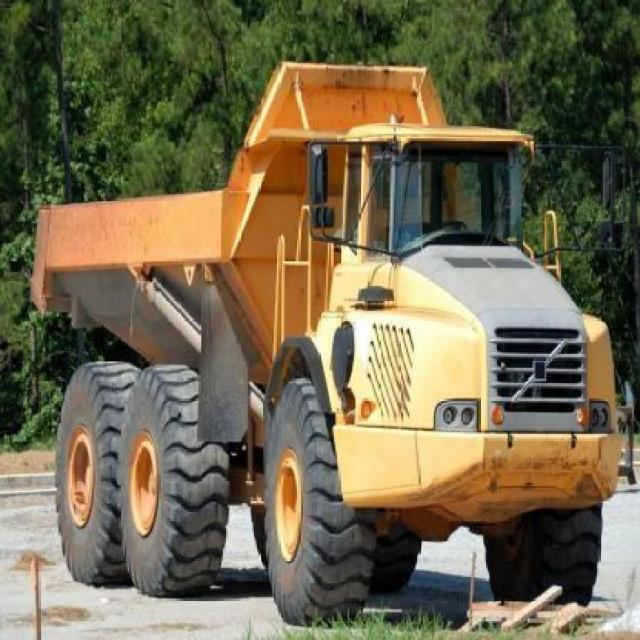Dump Truck: (21, 44, 627, 628)
